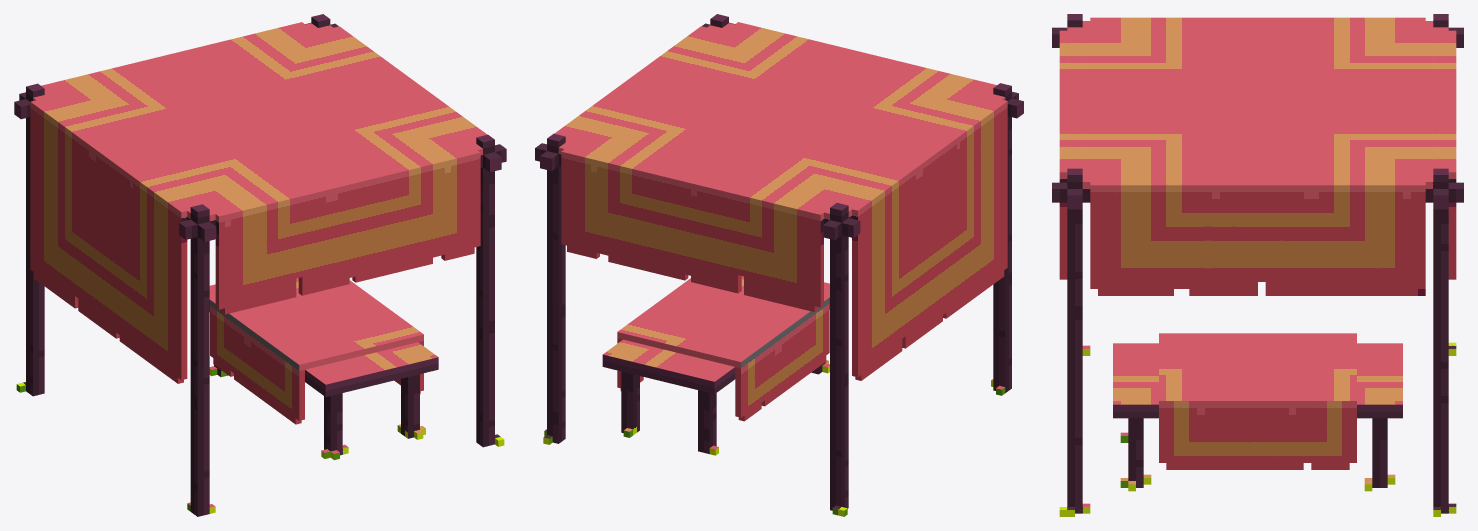
Rendered from zu_kiosk_aao.fezao.glb.
3 renders of one model, left to right at view 1: azimuth 30°, elevation 25°; view 2: azimuth 150°, elevation 25°; view 3: azimuth 270°, elevation 25°, orthographic. The views are drawn at different scales.
Visible parts, largest first — view 1: ZU_KIOSK_AAO; view 2: ZU_KIOSK_AAO; view 3: ZU_KIOSK_AAO.
Part boxes in pixels (x1=…): ZU_KIOSK_AAO: x1=14, y1=14, x2=506, y2=516; ZU_KIOSK_AAO: x1=535, y1=14, x2=1023, y2=516; ZU_KIOSK_AAO: x1=1052, y1=14, x2=1463, y2=516.
Size of the model in its own units: 3.38 by 3.06 by 3.38.
1 material, 1 textured.
